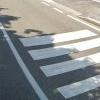crosswalks: (18, 28, 100, 100)
